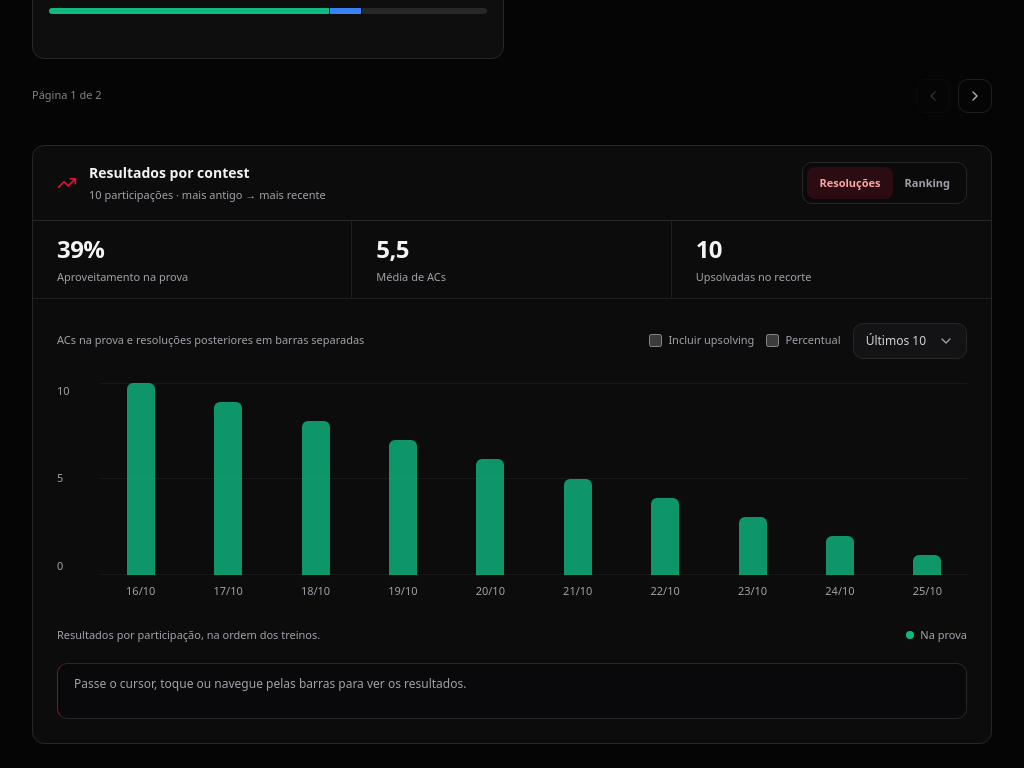
Test: mantém o resultado da barra visível após o clique ou toque
(page scrolled)
Click the button named "Treino 1:": [927, 494] box [888,382,967,606]
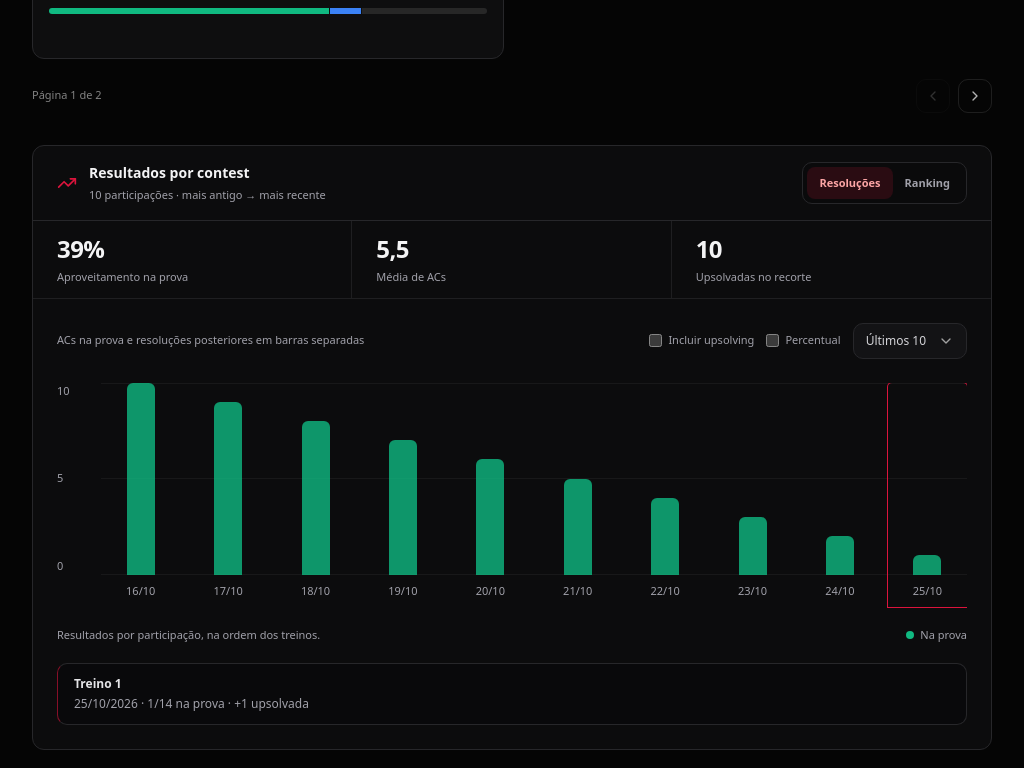
Now the message shows "Treino 1", box [74,675,122,692]
